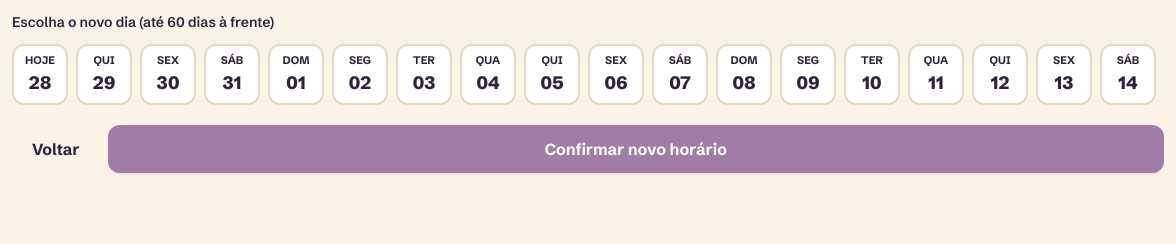
Test: ReschedulePicker › trocar de dia limpa o horário escolhido
Click the button with aria-label "Novo dia 29/10": (104, 74) [76,44,132,104]
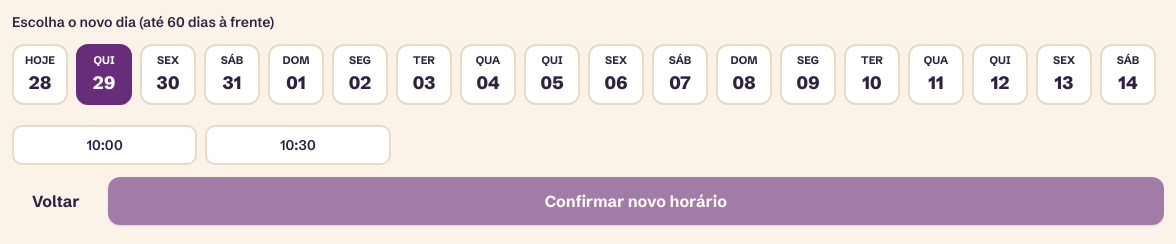
Click the button named "Novo horário 10:30": (298, 144) [205,124,391,164]
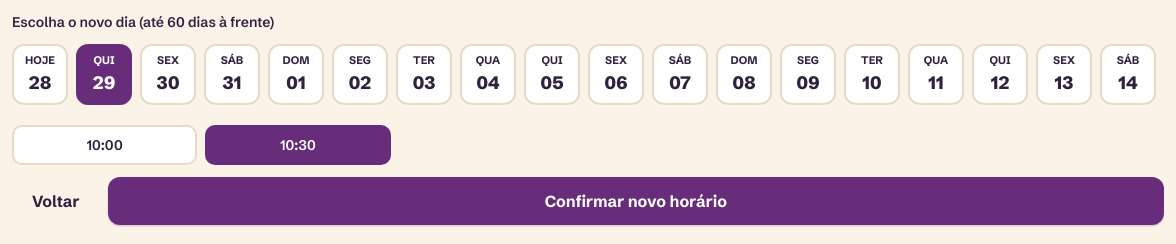
Result: the button "Confirmar novo horário" is enabled at [108,176,1164,224]
Click the button with aria-label "Novo dia 30/10": (168, 74) [140,44,196,104]
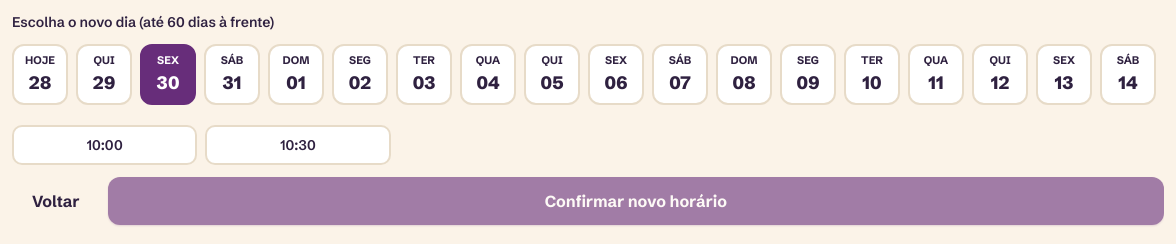
Result: the button "Confirmar novo horário" is disabled at [108,176,1164,224]
